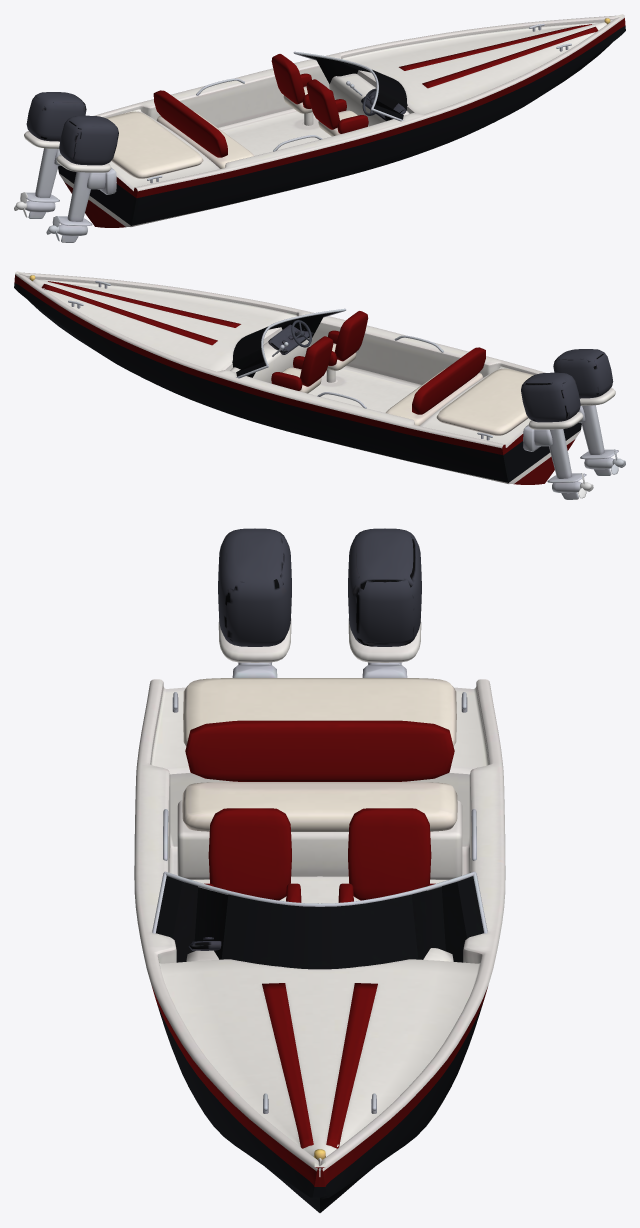
Rendered from lancha-focker-230-black-2018.glb.
3 views of the same model, one above another, from view 1: azimuth 30°, elevation 25°; view 2: azimuth 150°, elevation 25°; view 3: azimuth 270°, elevation 25° (orthographic). The views are drawn at different scales.
Parts seen in each view (by area): view 1: speedboat_body; view 2: speedboat_body; view 3: speedboat_body.
Part boxes in pixels (x1,y1,x2,y2): speedboat_body: [21, 14, 625, 242]; speedboat_body: [14, 271, 618, 499]; speedboat_body: [134, 528, 505, 1212].
Size of the model in its own units: 7.01 by 1.47 by 1.9.
Materials: 3 (1 with a texture image).
